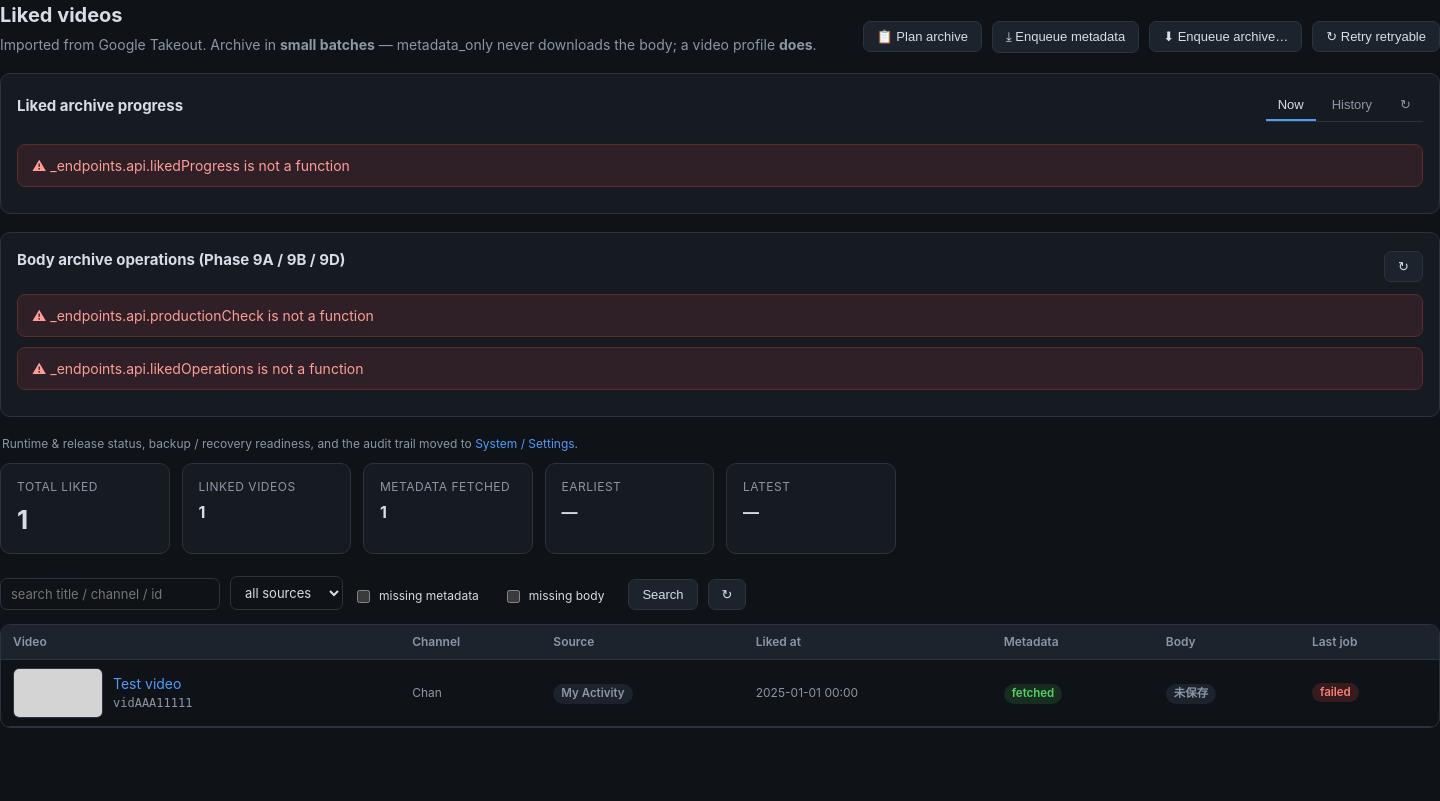
Test: Phase 7C liked-videos archive UI › runs a plan (no jobs created)
The image size is (1440, 801).
Expected: the link "Test video" is shown, 113,675 -> 181,692
Click the button "📋 Plan archive": (922, 36) 862,21 -> 982,52
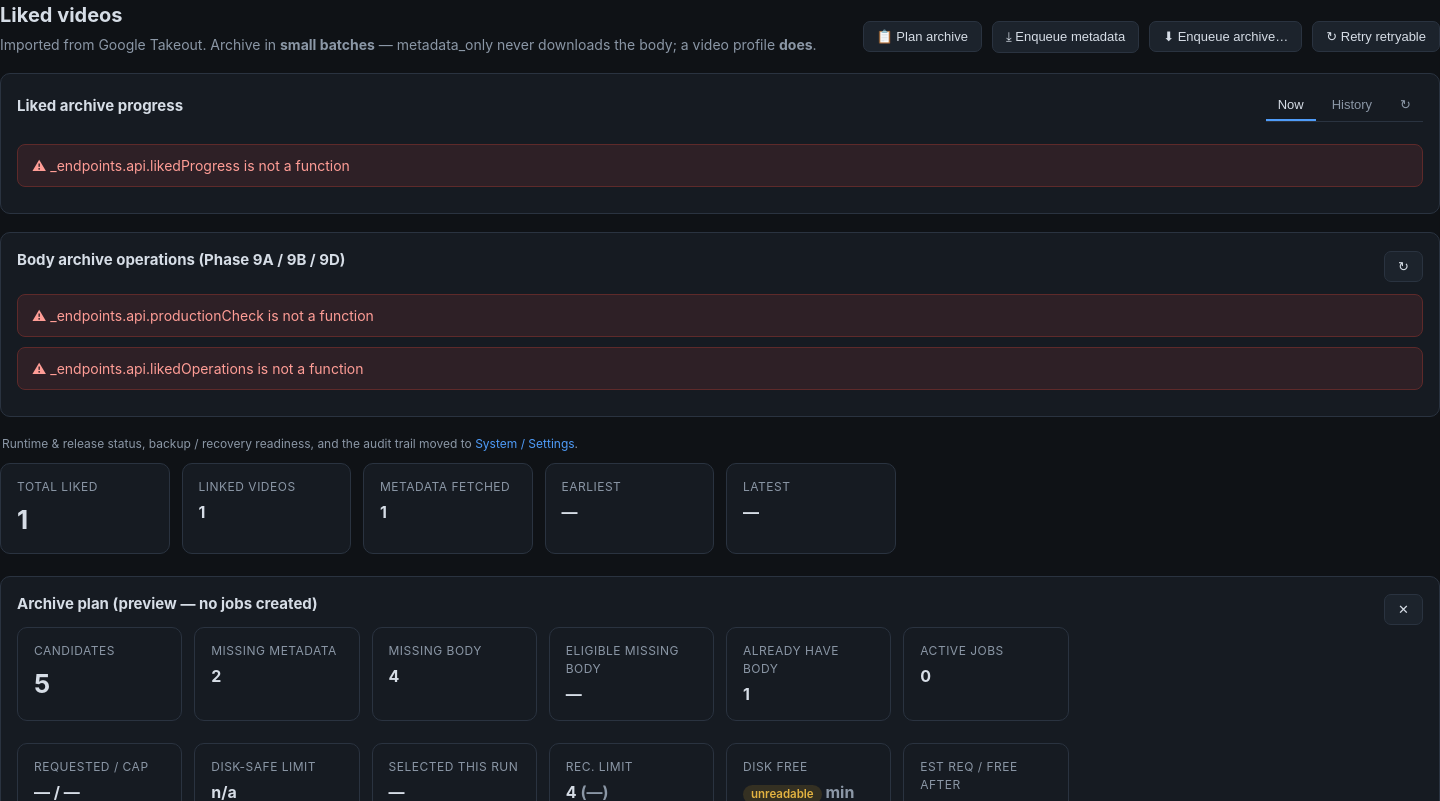
Expected: the heading "Archive plan (preview — no jobs created)" is shown, 17,592 -> 318,615
